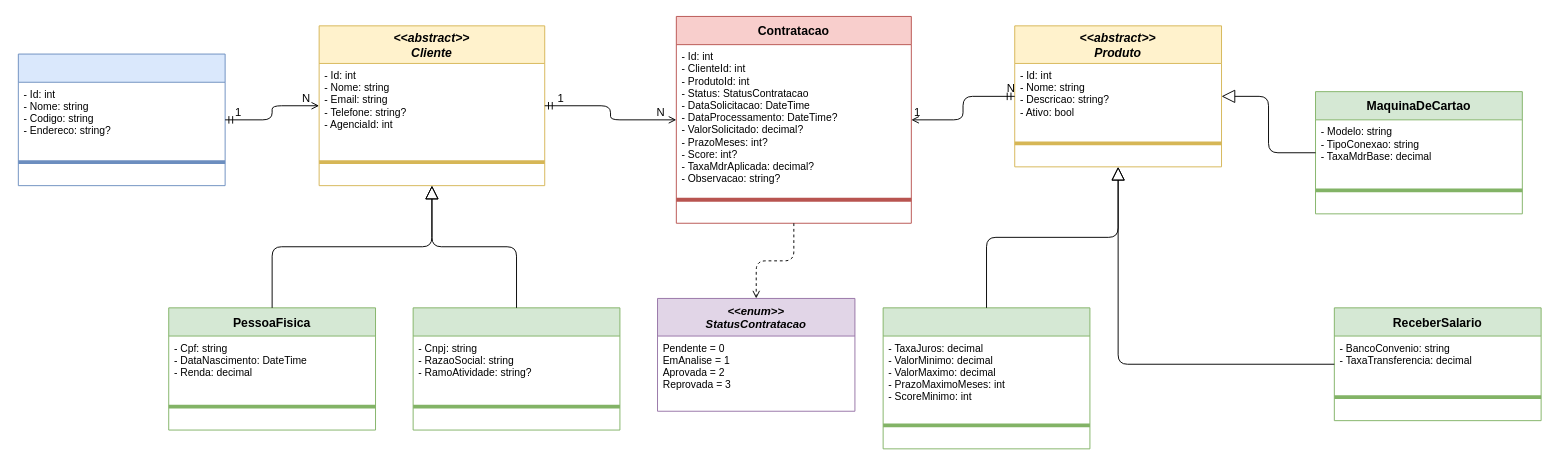
The diagram is 1559 pixels wide and 465 high, and some of its shapes have lost their labels. The box of each missing label's shape, as (x1, y1, x2, y2) in pixels:
Agencia: (17, 53, 225, 186)
Emprestimo: (882, 307, 1090, 449)
PessoaJuridica: (412, 307, 620, 430)
